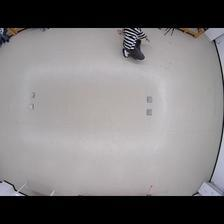fall: (119, 27, 149, 60)
